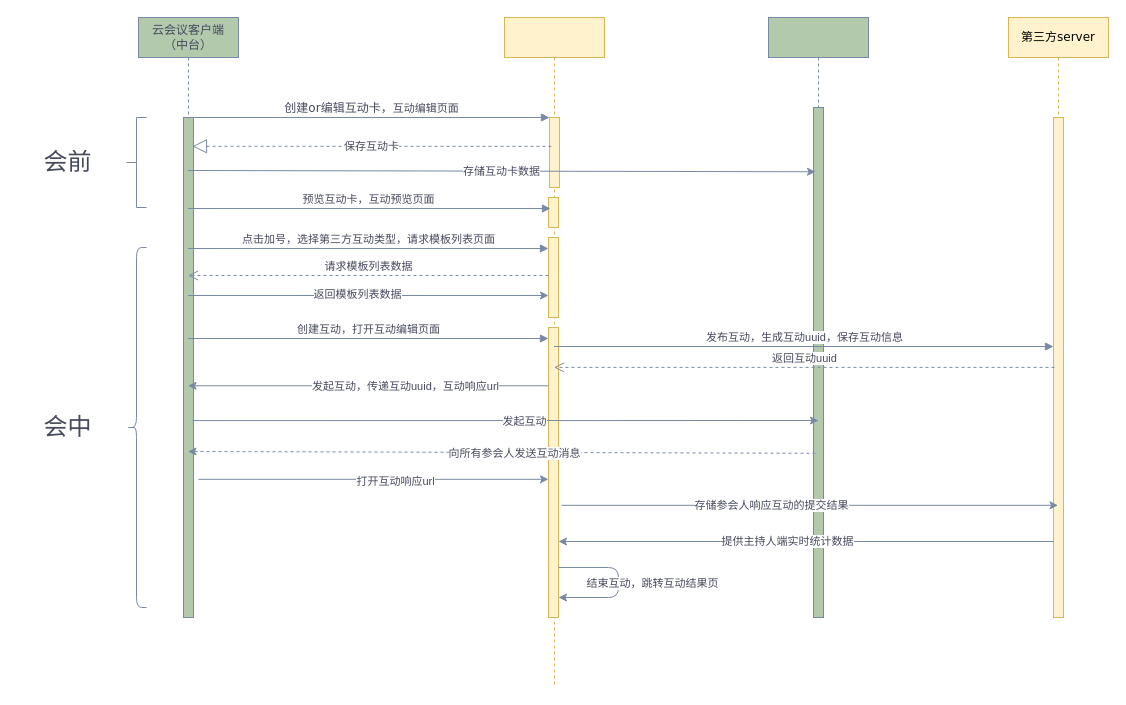
The diagram is 1126 pixels wide and 705 high, and some of its shapes have lost their labels. The centre of each missing label's shape, as x and y in pixels:
云会议server: (x=818, y=317)
第三方网页: (x=554, y=352)
